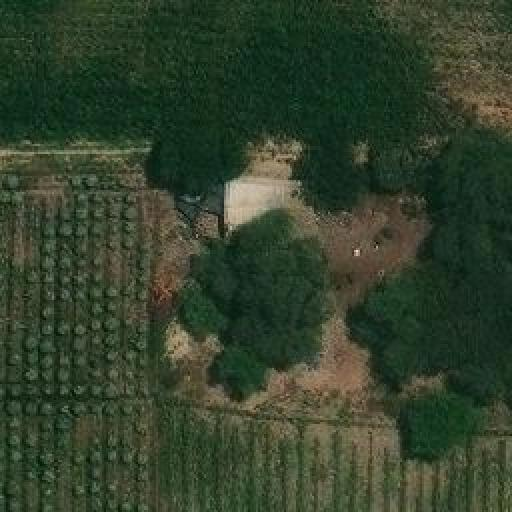manzanas: (219, 176, 313, 252)
